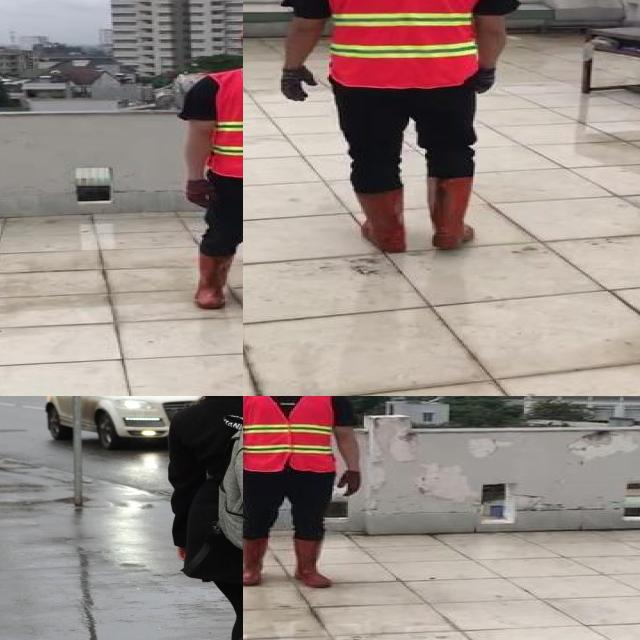boots: (350, 190, 409, 255), (426, 176, 476, 249), (193, 249, 234, 309), (295, 537, 332, 588), (243, 535, 269, 586)
hand_glove: (278, 67, 318, 102), (186, 177, 214, 208), (473, 67, 498, 94), (338, 469, 360, 497)
person: (265, 0, 521, 259), (170, 5, 243, 319), (243, 396, 362, 588)
vest: (313, 0, 480, 86), (243, 396, 335, 473), (207, 69, 243, 178)
